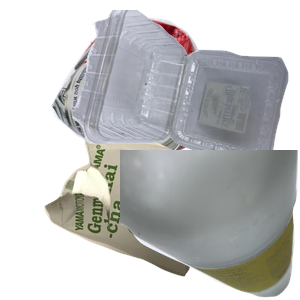glass: (120, 150, 300, 300)
metal: (48, 15, 251, 175)
plastic: (70, 10, 300, 171)
trash: (42, 126, 249, 300)
